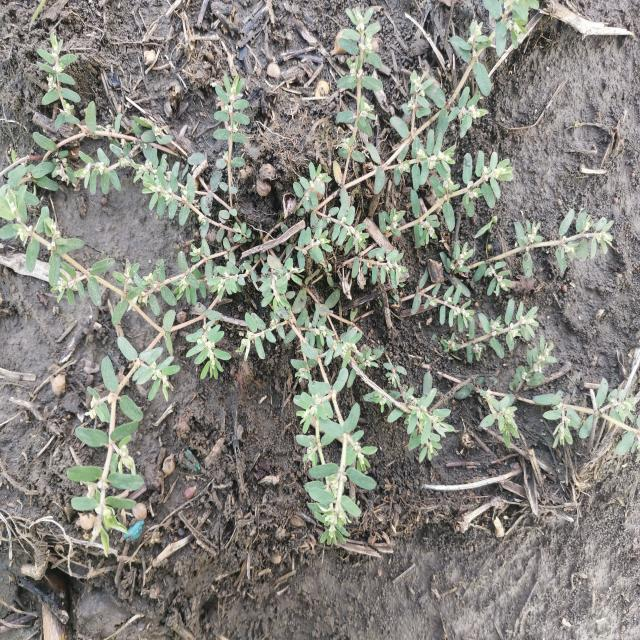SpottedSpurge: (2, 0, 637, 560)
